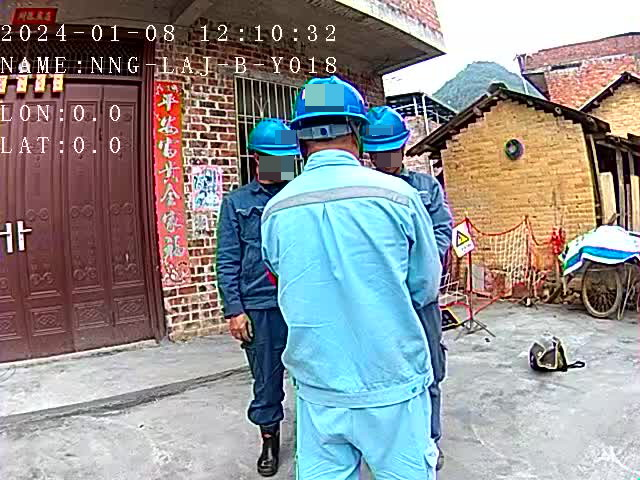downsuit: (291, 392, 436, 480), (243, 311, 289, 423)
halt: (289, 76, 369, 145), (246, 118, 301, 182), (362, 106, 411, 170)
hand: (226, 313, 255, 342)
inear: (250, 150, 270, 174)
person: (260, 75, 444, 480), (212, 116, 304, 480), (360, 103, 449, 439)
shoe: (253, 422, 282, 476)
upsuit: (258, 146, 444, 388), (215, 179, 284, 311)
